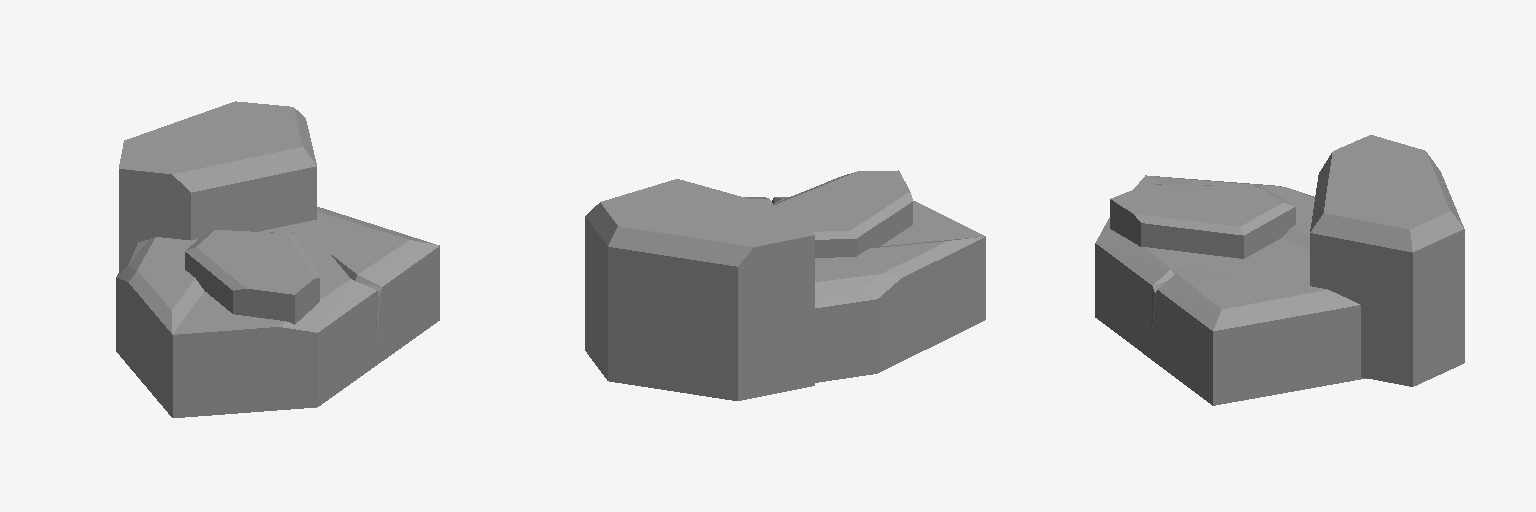
File: rock2.obj
3 views of the same model, side by side, from view 1: azimuth 30°, elevation 25°; view 2: azimuth 150°, elevation 25°; view 3: azimuth 270°, elevation 25° (orthographic).
Visible parts, largest first — view 1: Rock_Type1_03_mesh_Circle.004; view 2: Rock_Type1_03_mesh_Circle.004; view 3: Rock_Type1_03_mesh_Circle.004.
Part boxes in pixels (x1,y1,x2,y2): Rock_Type1_03_mesh_Circle.004: (116,101,439,417); Rock_Type1_03_mesh_Circle.004: (585,170,985,400); Rock_Type1_03_mesh_Circle.004: (1095,135,1464,405).
Size of the model in its own units: 1.47 by 0.7142 by 1.56.